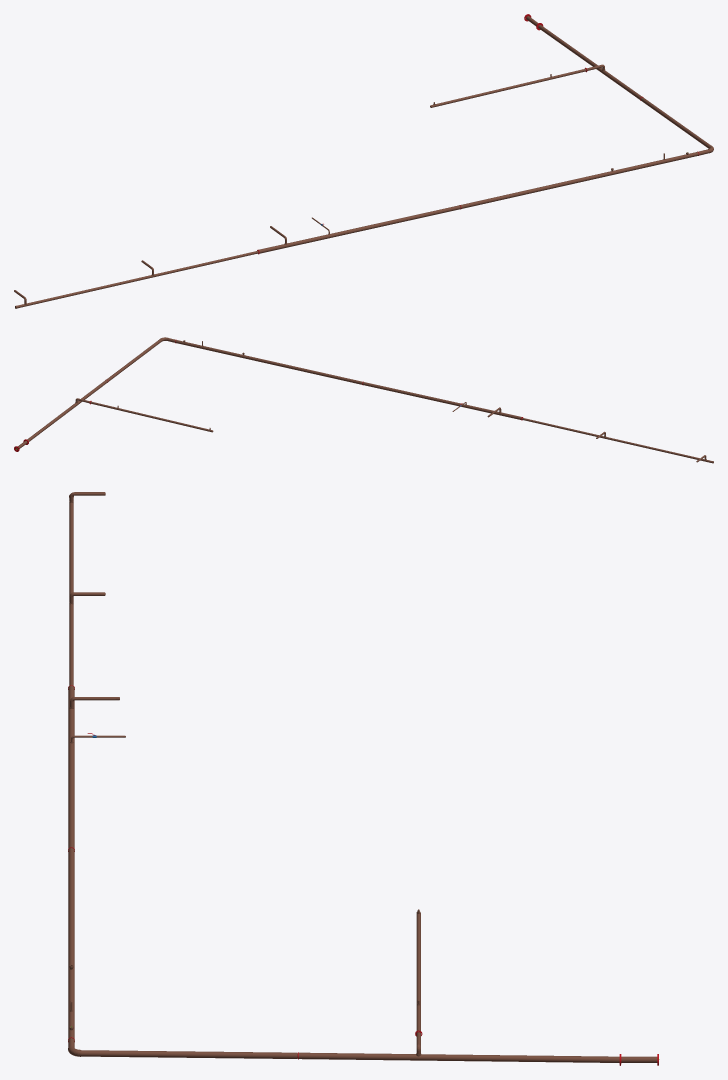
Rendered from Phase39 (2).fbx.
3 views of the same model, one above another, from view 1: azimuth 30°, elevation 25°; view 2: azimuth 150°, elevation 25°; view 3: azimuth 270°, elevation 25° (orthographic). The views are drawn at different scales.
Visible parts, largest first — view 1: Типы трубопроводов:CPS_Полиэтилен сшитый:1285372, Типы трубопроводов:CPS_Полиэтилен сшитый:1287198, Типы трубопроводов:CPS_Полиэтилен сшитый:1291470, Типы трубопроводов:CPS_Полиэтилен сшитый:1285067, Типы трубопроводов:CPS_Полиэтилен сшитый:1285170; view 2: Типы трубопроводов:CPS_Полиэтилен сшитый:1285372, Типы трубопроводов:CPS_Полиэтилен сшитый:1287198, Типы трубопроводов:CPS_Полиэтилен сшитый:1291470, Типы трубопроводов:CPS_Полиэтилен сшитый:1285067, Типы трубопроводов:CPS_Полиэтилен сшитый:1285170, Типы трубопроводов:CPS_Полиэтилен сшитый:1285313; view 3: Типы трубопроводов:CPS_Полиэтилен сшитый:1285067, Типы трубопроводов:CPS_Полиэтилен сшитый:1285313, Типы трубопроводов:CPS_Полиэтилен сшитый:1285372, Типы трубопроводов:CPS_Полиэтилен сшитый:1287198, Типы трубопроводов:CPS_Полиэтилен сшитый:1291470.
Part boxes in pixels (x1,y1,x2,y2): Типы трубопроводов:CPS_Полиэтилен сшитый:1285372: (460,152,698,208); Типы трубопроводов:CPS_Полиэтилен сшитый:1287198: (258,205,460,253); Типы трубопроводов:CPS_Полиэтилен сшитый:1291470: (17,251,258,308); Типы трубопроводов:CPS_Полиэтилен сшитый:1285067: (538,25,641,99); Типы трубопроводов:CPS_Полиэтилен сшитый:1285170: (432,68,586,107); Типы трубопроводов:CPS_Полиэтилен сшитый:1285372: (175,340,362,384); Типы трубопроводов:CPS_Полиэтилен сшитый:1287198: (362,382,521,419); Типы трубопроводов:CPS_Полиэтилен сшитый:1291470: (522,418,711,462); Типы трубопроводов:CPS_Полиэтилен сшитый:1285067: (27,380,107,441); Типы трубопроводов:CPS_Полиэтилен сшитый:1285170: (90,401,211,431); Типы трубопроводов:CPS_Полиэтилен сшитый:1285313: (106,338,162,381); Типы трубопроводов:CPS_Полиэтилен сшитый:1285067: (298,1052,619,1062); Типы трубопроводов:CPS_Полиэтилен сшитый:1285313: (81,1050,297,1058); Типы трубопроводов:CPS_Полиэтилен сшитый:1285372: (68,848,74,1038); Типы трубопроводов:CPS_Полиэтилен сшитый:1287198: (68,685,74,848); Типы трубопроводов:CPS_Полиэтилен сшитый:1291470: (69,496,73,685).
Bounding box in the file's own units: 17582 × 8160 × 668.
